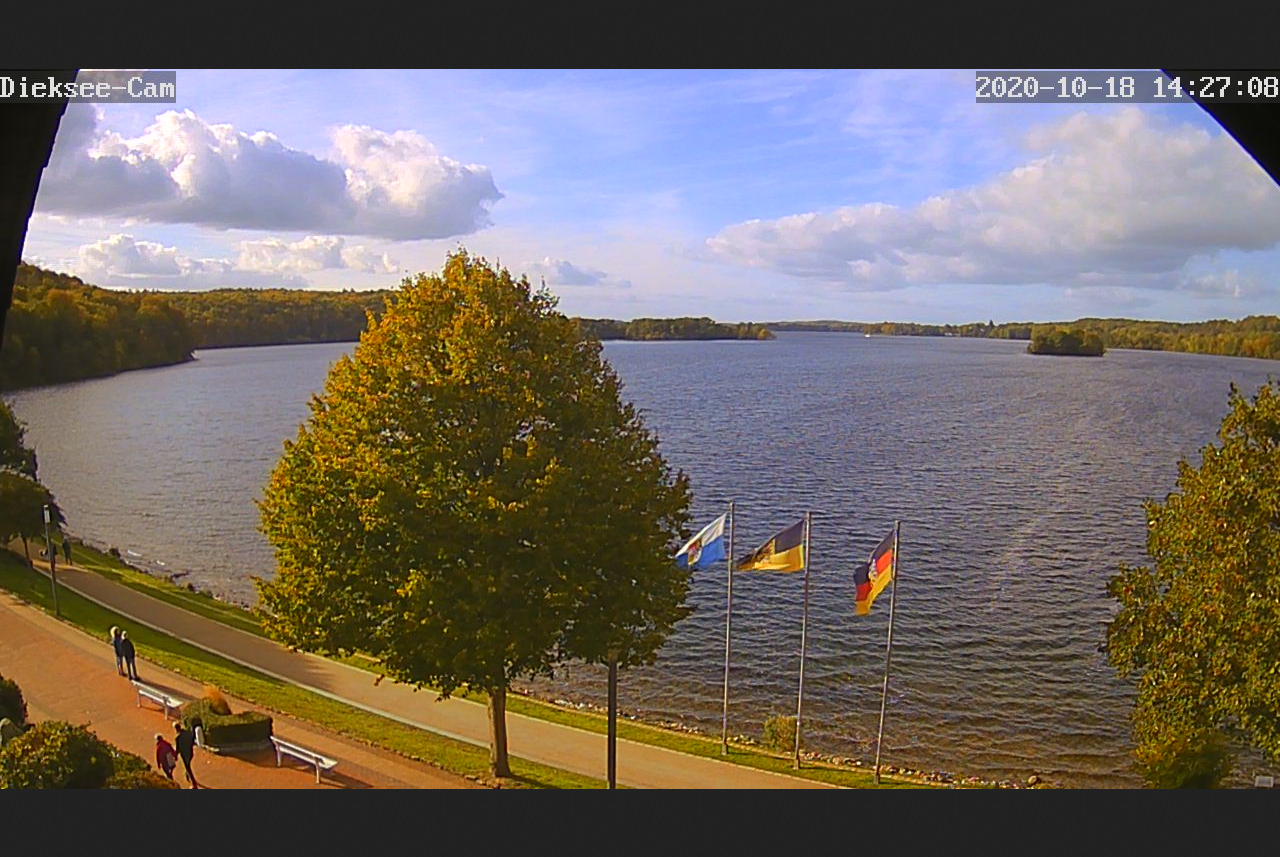maybe: (733, 512, 815, 582), (665, 508, 730, 576), (851, 522, 895, 622)
